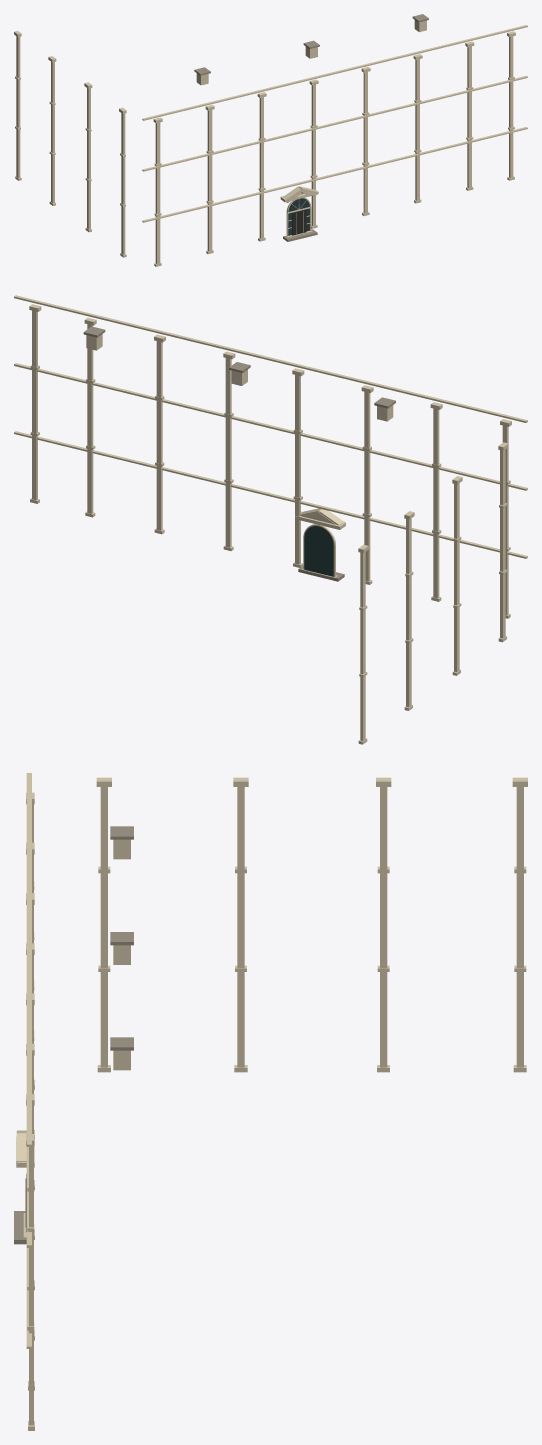
The model's file is KOL_T1_METROPOLITAN__10_Rear_Architecture.fbx.
3 views of the same model, one above another, from view 1: azimuth 30°, elevation 25°; view 2: azimuth 150°, elevation 25°; view 3: azimuth 270°, elevation 25° (orthographic). The views are drawn at different scales.
Visible parts, largest first — view 1: KOL_T1_METROPOLITAN__10_Rear_Architecture__KOL_T1_HeritageCr, KOL_T1_METROPOLITAN__10_Rear_Architecture__KOL_T1_HeritageSt, KOL_T1_METROPOLITAN__10_Rear_Architecture__KOL_T1_HeritageGl, KOL_T1_METROPOLITAN__10_Rear_Architecture__KOL_T1_HeritageDa; view 2: KOL_T1_METROPOLITAN__10_Rear_Architecture__KOL_T1_HeritageCr, KOL_T1_METROPOLITAN__10_Rear_Architecture__KOL_T1_HeritageGl, KOL_T1_METROPOLITAN__10_Rear_Architecture__KOL_T1_HeritageSt; view 3: KOL_T1_METROPOLITAN__10_Rear_Architecture__KOL_T1_HeritageCr, KOL_T1_METROPOLITAN__10_Rear_Architecture__KOL_T1_HeritageSt.
Boxes of the visible parts, left/top/right/bottom form: KOL_T1_METROPOLITAN__10_Rear_Architecture__KOL_T1_HeritageCr: left=14, top=20, right=527, bottom=266; KOL_T1_METROPOLITAN__10_Rear_Architecture__KOL_T1_HeritageSt: left=194, top=14, right=428, bottom=241; KOL_T1_METROPOLITAN__10_Rear_Architecture__KOL_T1_HeritageGl: left=288, top=198, right=309, bottom=235; KOL_T1_METROPOLITAN__10_Rear_Architecture__KOL_T1_HeritageDa: left=292, top=209, right=306, bottom=235; KOL_T1_METROPOLITAN__10_Rear_Architecture__KOL_T1_HeritageCr: left=14, top=295, right=527, bottom=744; KOL_T1_METROPOLITAN__10_Rear_Architecture__KOL_T1_HeritageGl: left=304, top=526, right=333, bottom=576; KOL_T1_METROPOLITAN__10_Rear_Architecture__KOL_T1_HeritageSt: left=83, top=326, right=395, bottom=581; KOL_T1_METROPOLITAN__10_Rear_Architecture__KOL_T1_HeritageCr: left=16, top=773, right=527, bottom=1430; KOL_T1_METROPOLITAN__10_Rear_Architecture__KOL_T1_HeritageSt: left=14, top=826, right=133, bottom=1244.
Size of the model in its own units: 149 by 60.9 by 86.5.
